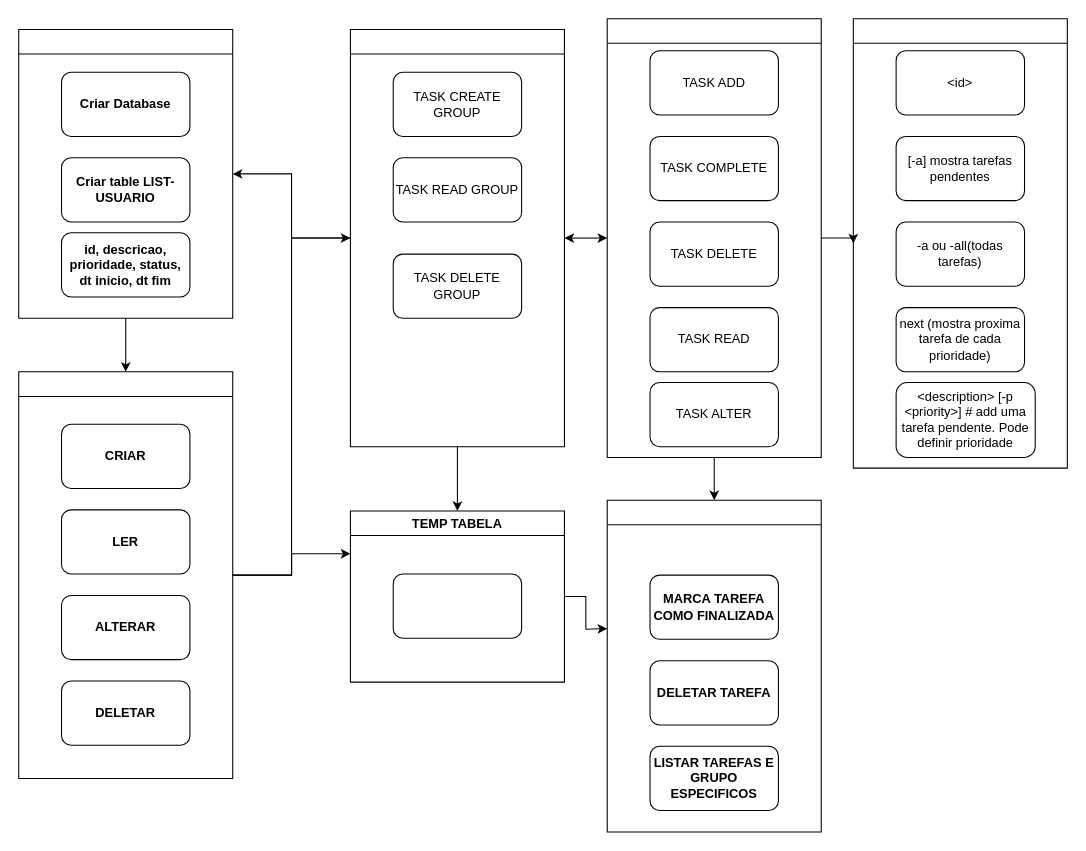
Image size: 1086x851. Some labels were removed from this diagram. The shapes that lost their labels are listed below. From the top down, each one's box as (x1, y1, x2, y2) in pixels, then its label:
(18, 28, 233, 318): Banco de dados
(349, 28, 564, 447): COMANDOS
(606, 18, 821, 457): SUB - COMANDOS
(852, 18, 1067, 468): ARGUMENTOS
(18, 371, 233, 778): Conexão CRUD
(392, 573, 522, 638): TABLE TEMP PARA CADA GROUP
(606, 499, 821, 832): CONDIÇÃO
